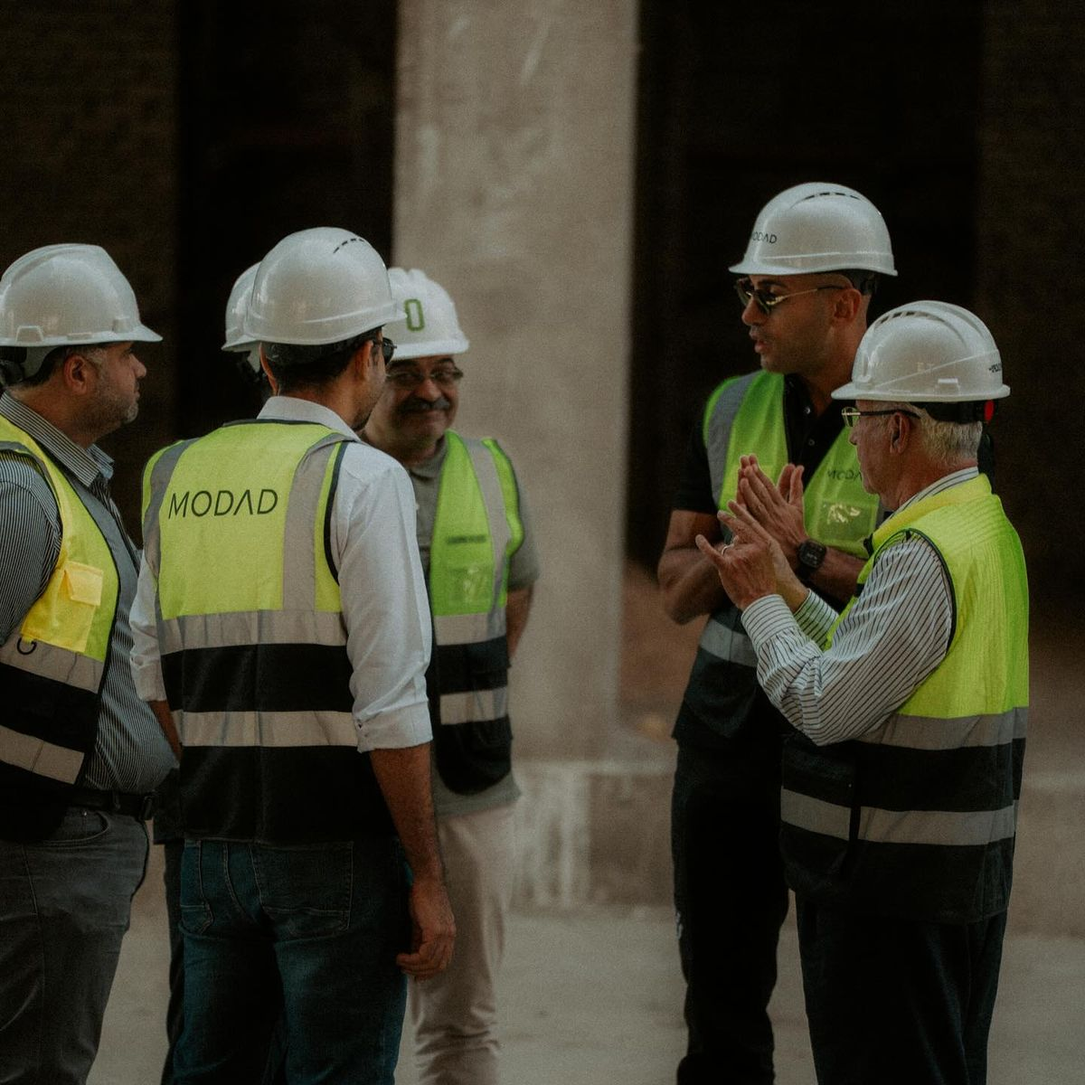hardhat: (833, 287, 1011, 402), (744, 179, 890, 291), (6, 242, 166, 344), (253, 231, 391, 339), (377, 264, 464, 353)
person: (144, 231, 464, 1072), (619, 138, 868, 1065), (752, 303, 1046, 1068), (373, 278, 553, 1072), (8, 213, 151, 1074)
safety_vest: (148, 402, 382, 807), (826, 460, 1038, 901), (379, 404, 541, 803), (712, 355, 859, 770), (14, 431, 138, 814)
